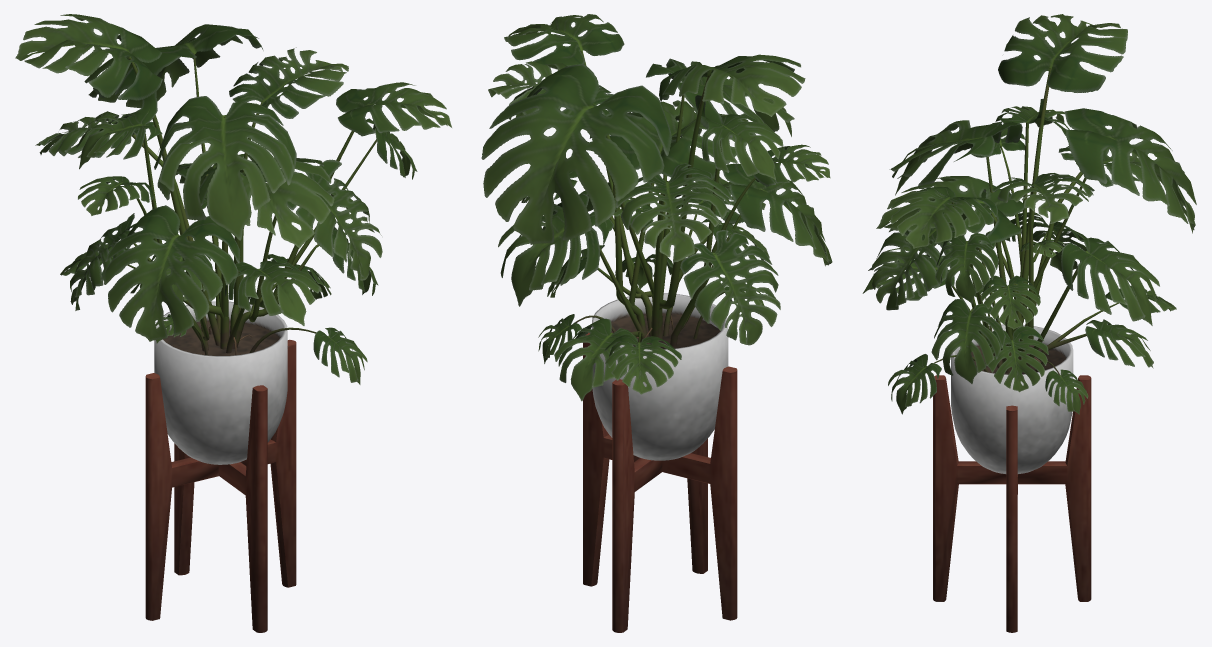
Rendered from monstera-deliciosa-potted-mid-century-pl-1ab9bf.glb.
The picture shows the model from 3 angles, left to right: view 1: azimuth 30°, elevation 25°; view 2: azimuth 150°, elevation 25°; view 3: azimuth 270°, elevation 25°; orthographic projection. The views are drawn at different scales.
Visible parts, largest first — view 1: PropMesh; view 2: PropMesh; view 3: PropMesh.
Boxes of the visible parts, x1,y1,x2,y2 form: PropMesh: (15, 14, 451, 632); PropMesh: (481, 14, 832, 632); PropMesh: (862, 14, 1196, 632).
Bounding box in the file's own units: 0.8695 × 1.36 × 0.7911.
3 materials, 3 textured.
